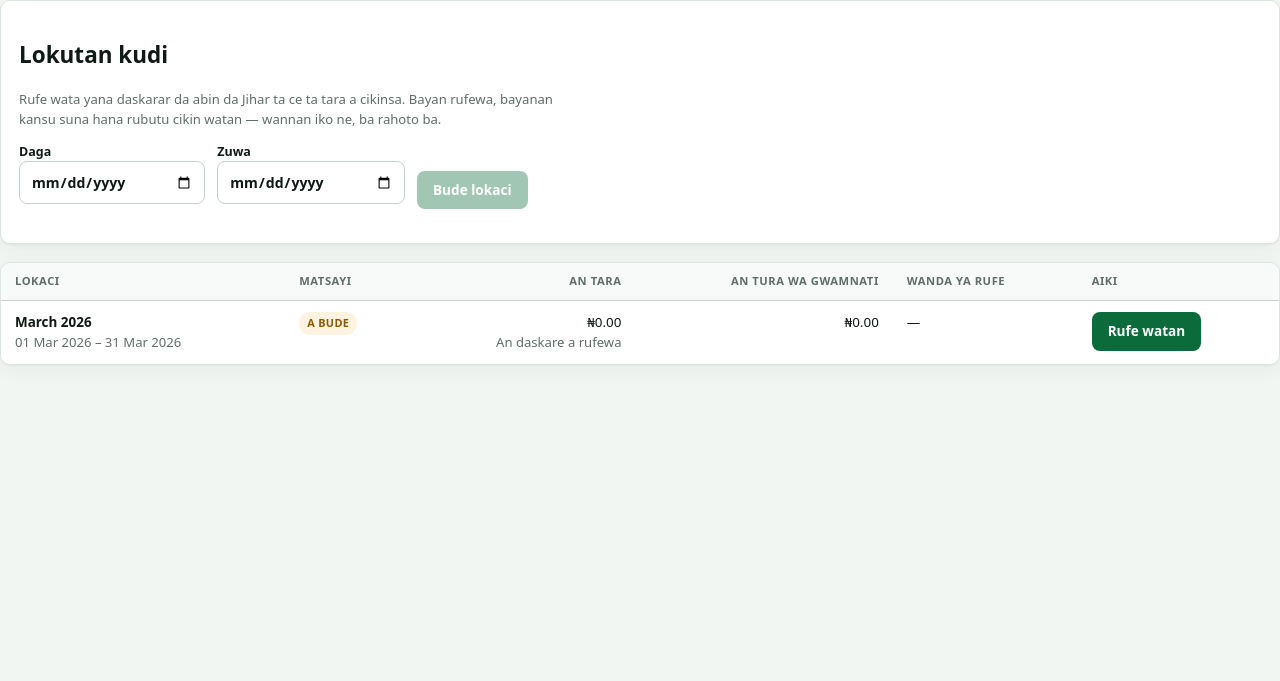
closing a month you cannot see › tells a finance officer reading Hausa the same thing
The width and height of the screenshot is (1280, 681).
Click the button "Rufe watan" at (1146, 331), box [1092,312,1201,351]
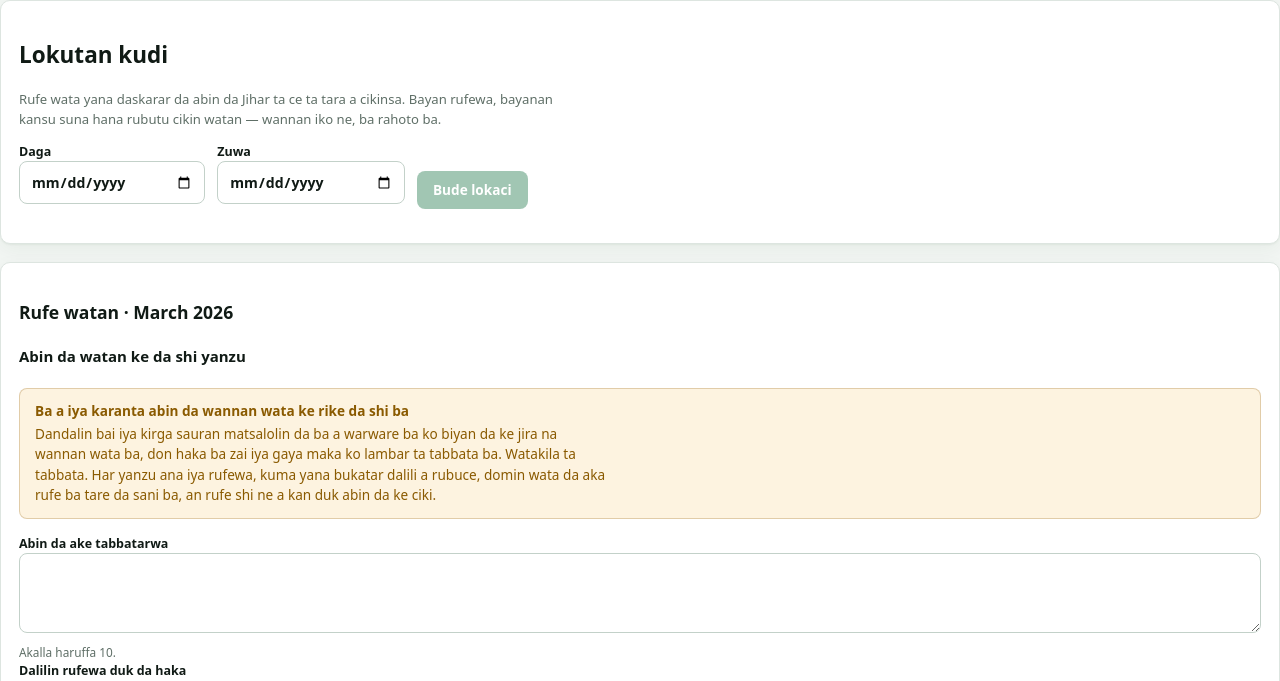
Expected: the text "Ba a iya karanta abin da wannan wata ke rike da shi ba" is shown, [35,401,409,420]
